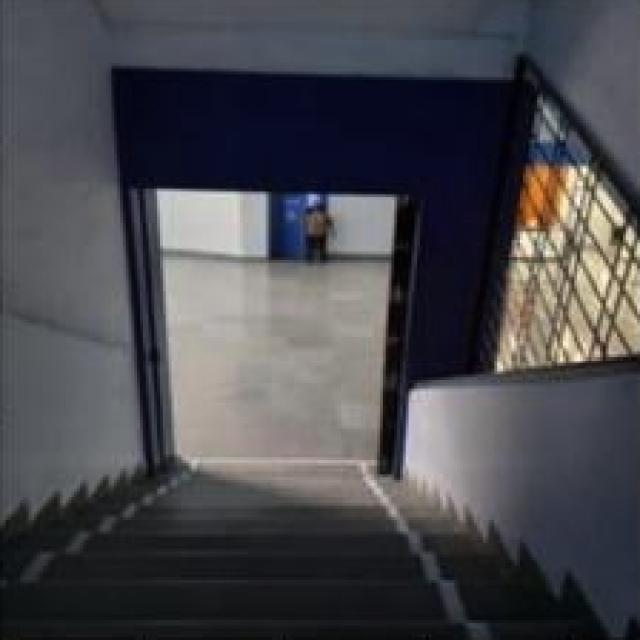downstair: (107, 458, 427, 624)
